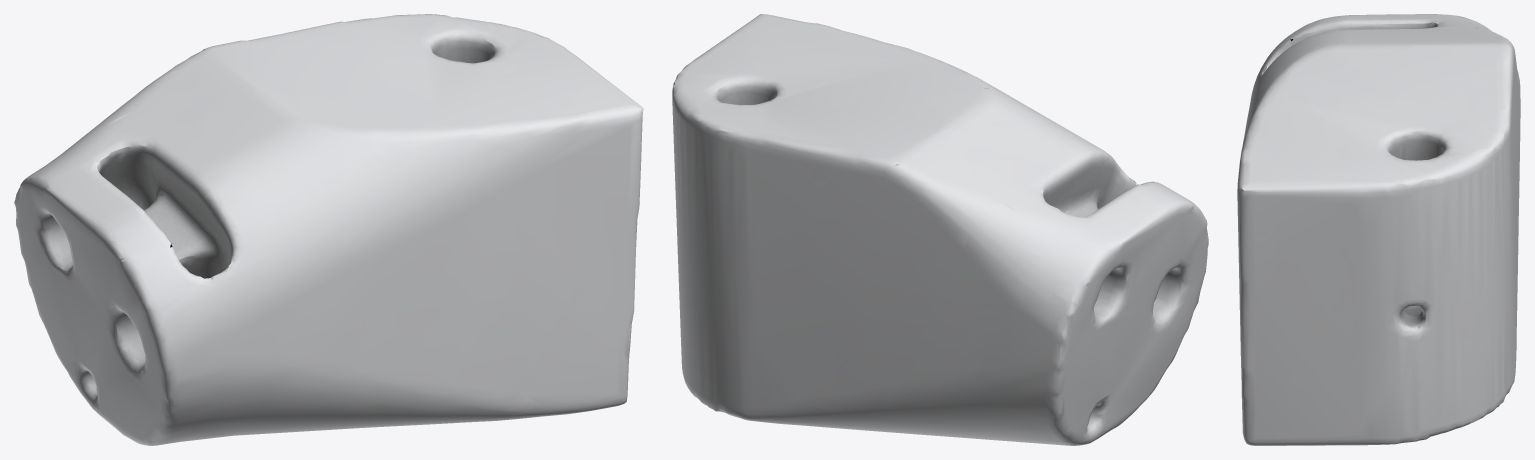
The model's file is left_thomb_to_palm.glb.
3 renders of one model, left to right at view 1: azimuth 30°, elevation 25°; view 2: azimuth 150°, elevation 25°; view 3: azimuth 270°, elevation 25°, orthographic. The views are drawn at different scales.
Visible parts, largest first — view 1: left_thomb_to_palm; view 2: left_thomb_to_palm; view 3: left_thomb_to_palm.
Boxes of the visible parts, <box> form: left_thomb_to_palm: <box>14,14,643,445</box>; left_thomb_to_palm: <box>672,14,1208,445</box>; left_thomb_to_palm: <box>1237,14,1520,445</box>.
Bounding box in the file's own units: 0.0345 × 0.0213 × 0.0192.
Materials: 1 (1 with a texture image).
